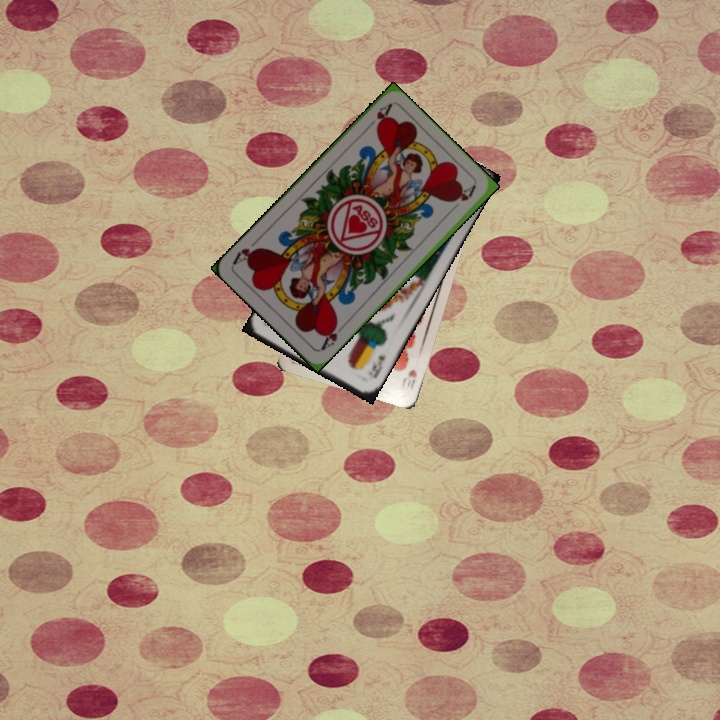EK: (367, 350, 388, 381)
H10: (398, 365, 419, 393)
HA: (316, 318, 348, 353), (361, 100, 394, 133)
